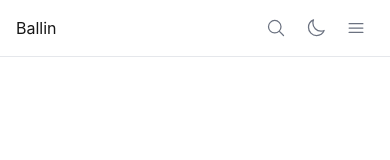
Test: Header › 모바일 메뉴 토글이 동작한다
This screenshot has width=390, height=160.
Click the button named "메뉴 열기" at (356, 28), box [338,10,374,46]
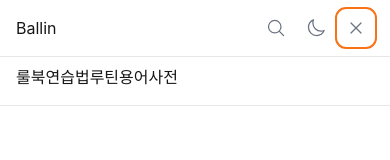
Now the button named "메뉴 닫기" is shown, box [338,10,374,46]
